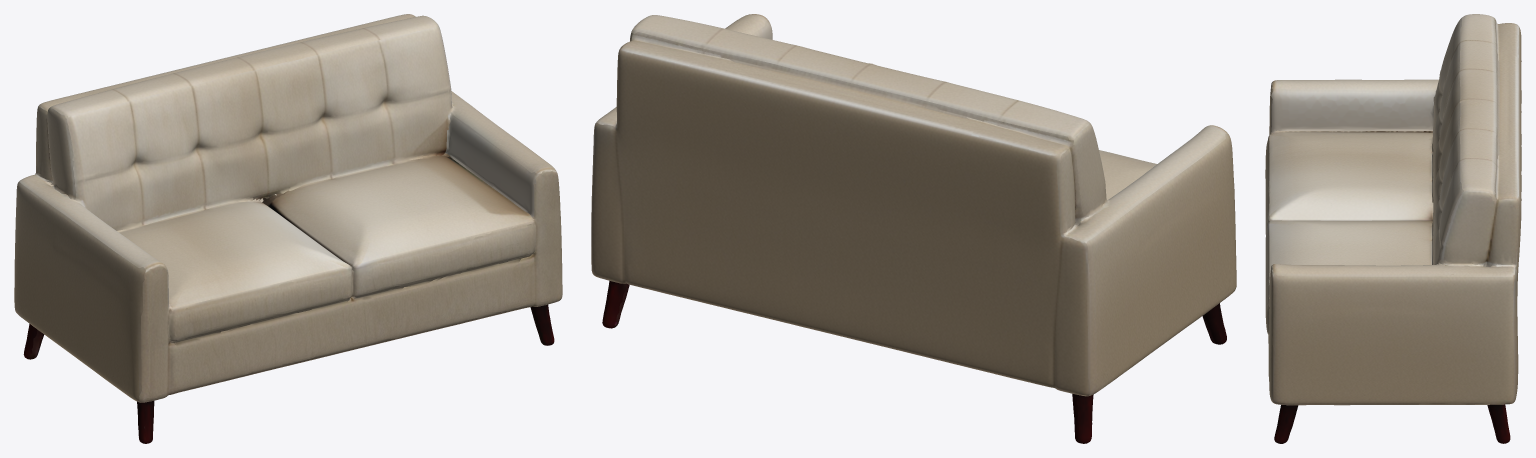
The model's file is couch__couch#2.glb.
3 views of the same model, side by side, from view 1: azimuth 30°, elevation 25°; view 2: azimuth 150°, elevation 25°; view 3: azimuth 270°, elevation 25° (orthographic). The views are drawn at different scales.
Visible parts, largest first — view 1: tmpb068mzl6.ply; view 2: tmpb068mzl6.ply; view 3: tmpb068mzl6.ply.
Boxes of the visible parts, bbox=[...] form: tmpb068mzl6.ply: bbox=[14, 14, 562, 443]; tmpb068mzl6.ply: bbox=[591, 14, 1236, 443]; tmpb068mzl6.ply: bbox=[1265, 14, 1521, 443].
Bounding box in the file's own units: 1.99 × 1.14 × 1.07.
1 material, 1 textured.
